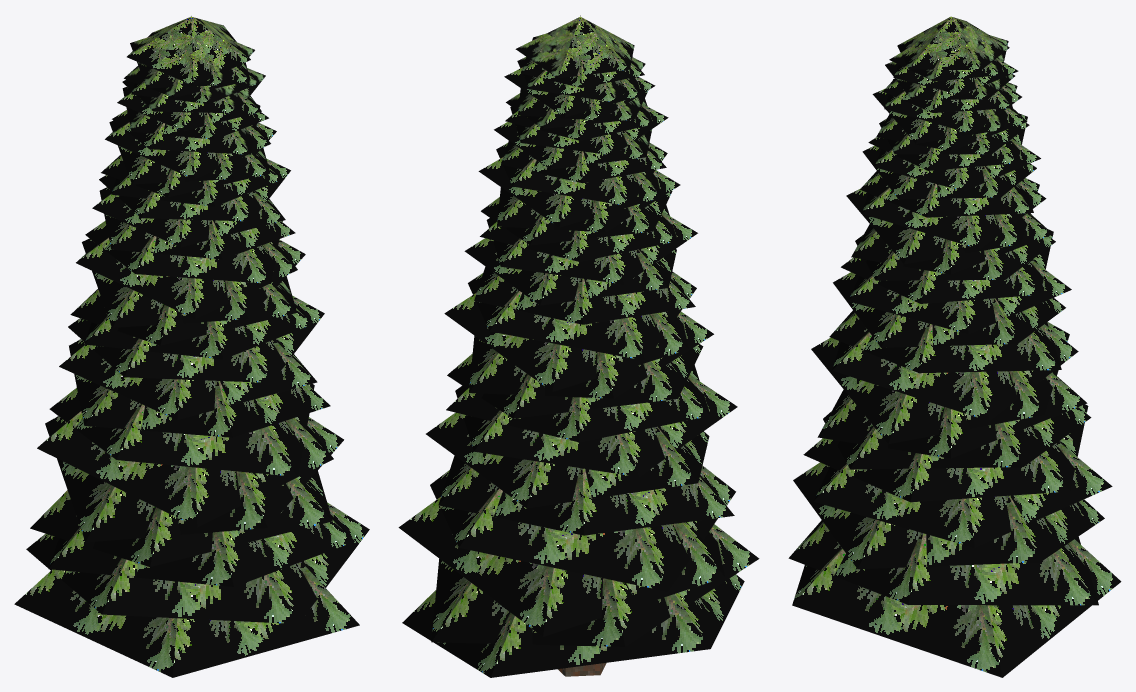
The model's file is tree.glb.
3 views of the same model, side by side, from view 1: azimuth 30°, elevation 25°; view 2: azimuth 150°, elevation 25°; view 3: azimuth 270°, elevation 25° (orthographic). The views are drawn at different scales.
Parts seen in each view (by area): view 1: tree; view 2: tree; view 3: tree.
Boxes of the visible parts, bbox=[...] form: tree: bbox=[14, 16, 369, 677]; tree: bbox=[398, 15, 759, 677]; tree: bbox=[788, 16, 1121, 677].
Bounding box in the file's own units: 6.04 × 12 × 5.86.
Materials: 2 (2 with a texture image).
